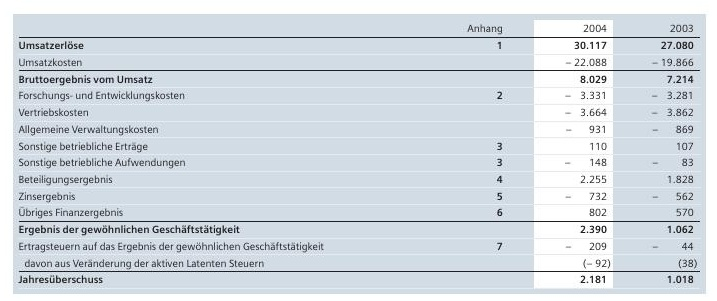table: (0, 0, 717, 301)
